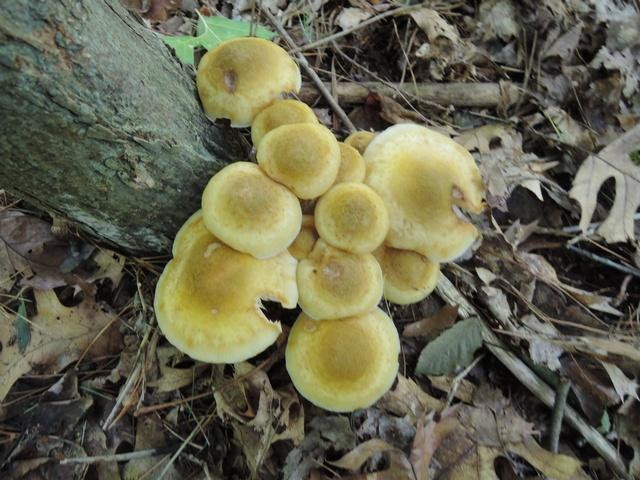edible_mushroom: (153, 35, 486, 412)
